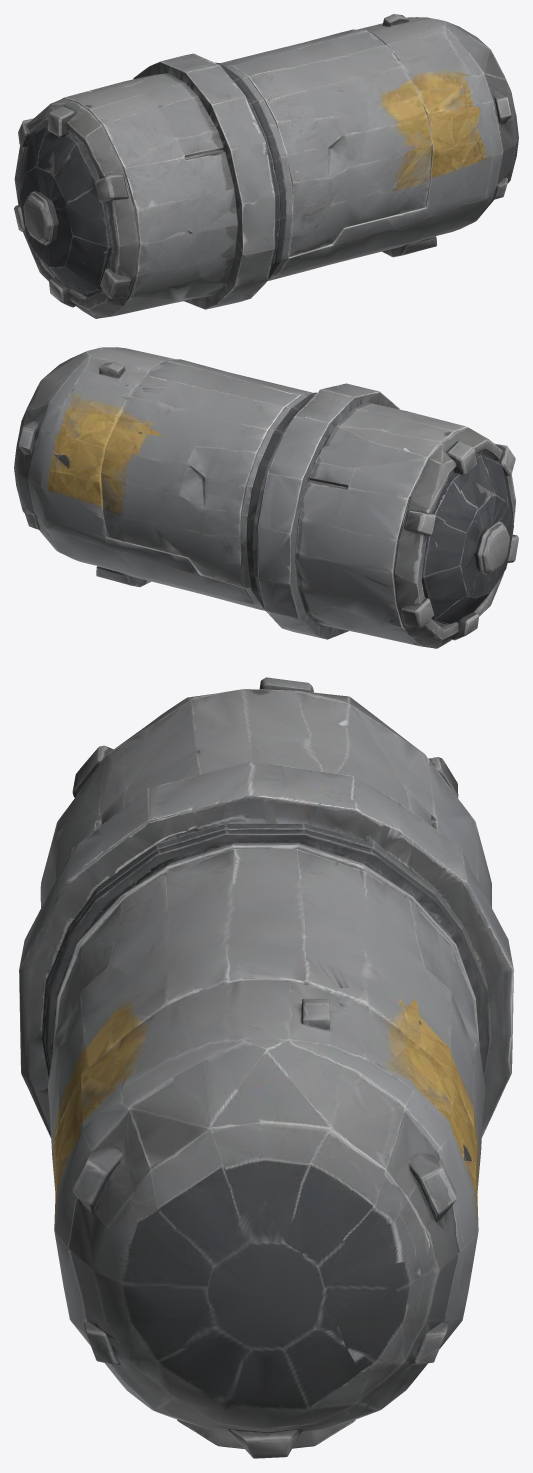
Rendered from irregular-debris.glb.
3 views of the same model, one above another, from view 1: azimuth 30°, elevation 25°; view 2: azimuth 150°, elevation 25°; view 3: azimuth 270°, elevation 25° (orthographic). The views are drawn at different scales.
Parts seen in each view (by area): view 1: Mesh_0; view 2: Mesh_0; view 3: Mesh_0.
Boxes of the visible parts, box(x1,y1,x2,y2) form: Mesh_0: box(14, 14, 518, 318); Mesh_0: box(14, 347, 518, 648); Mesh_0: box(19, 677, 513, 1458).
Bounding box in the file's own units: 2 × 0.9601 × 0.9302.
Materials: 1 (1 with a texture image).
